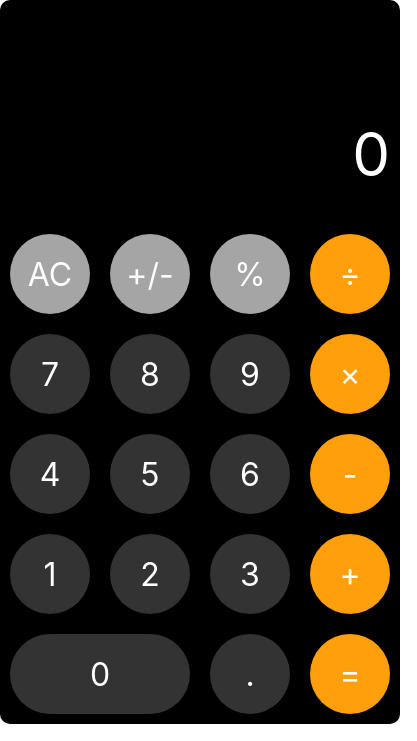
Test case: Calculator › ACTIONS › should correctly reconciliation
This screenshot has width=417, height=741.
Click the element with test id "1" at x=50, y=574, box 10,534 -> 90,614
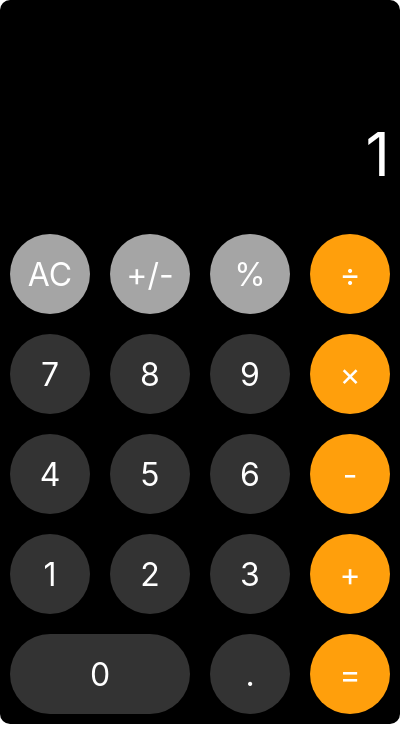
Click the element with test id "2" at x=150, y=574, box 110,534 -> 190,614
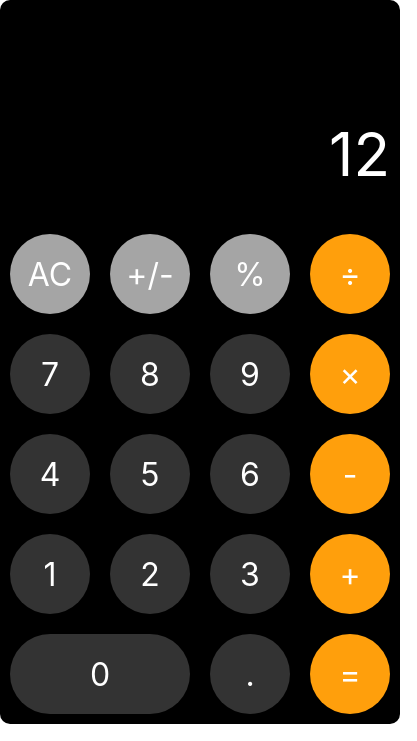
Click the element with test id "+/-" at x=150, y=274, box 110,234 -> 190,314
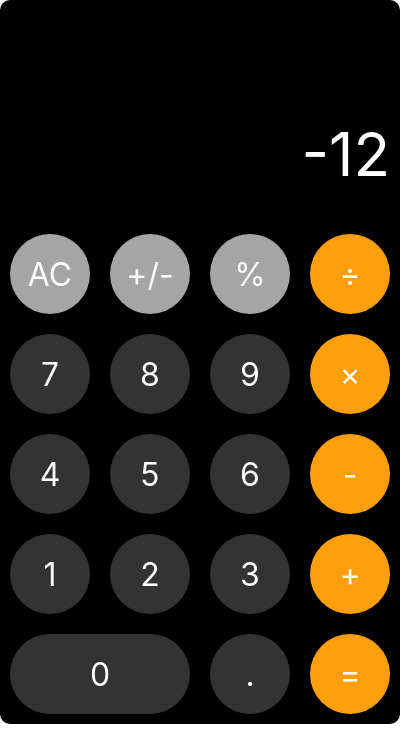
expect the text with test id "calculator-result" reads "-12": met, box 301,118 -> 390,190
